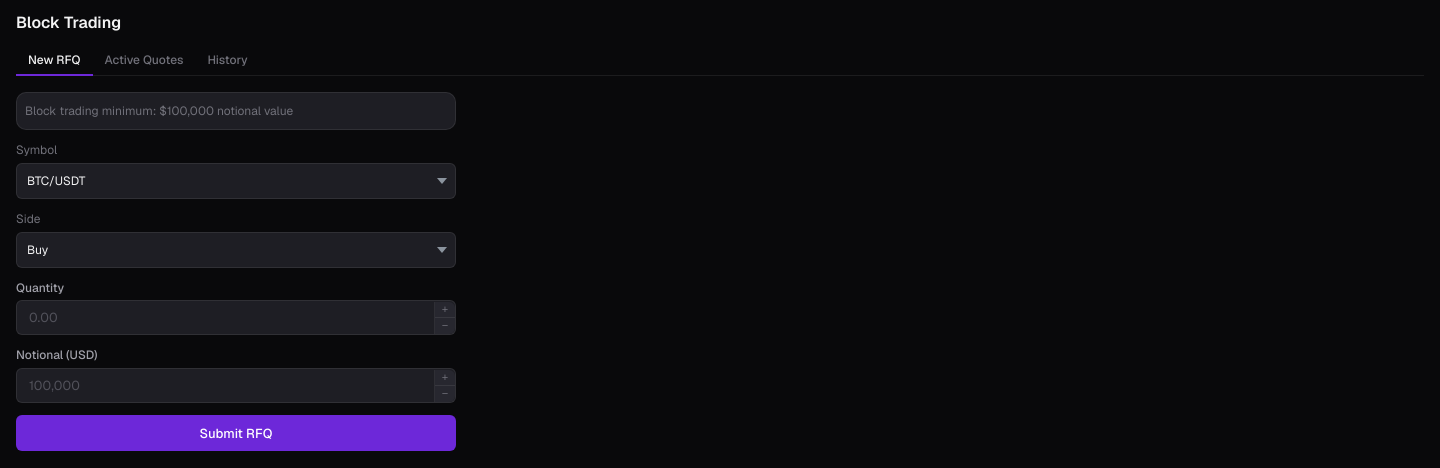
it: BlockTradePage › history tab loads block trades
The image size is (1440, 468).
Click the tab "History" at coordinates (228, 61), box [195,46,260,76]
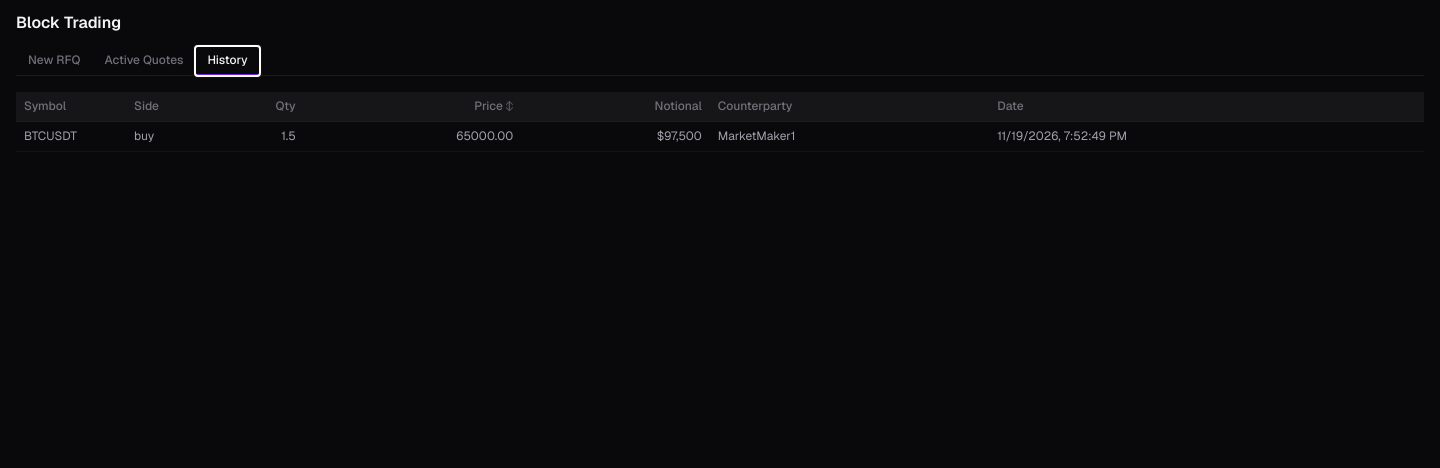
Expected: the text "BTCUSDT" is shown, [16,122,126,152]
